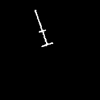double_crochet: (35, 10, 52, 46)
